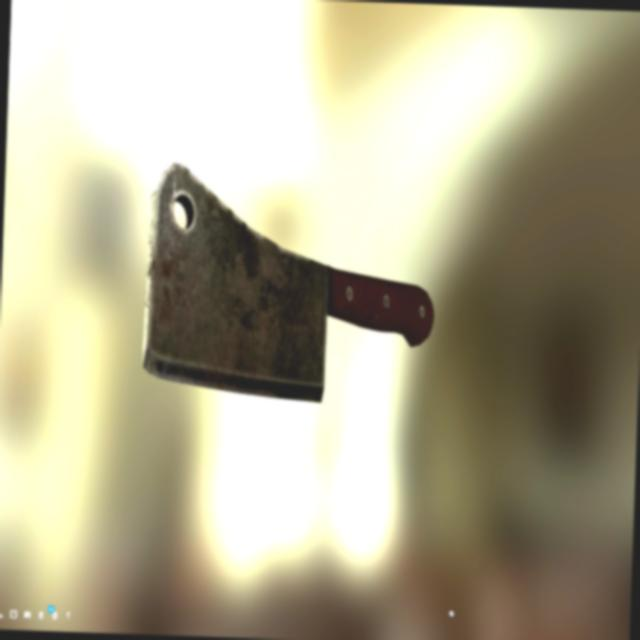cleaver: (136, 154, 440, 402)
